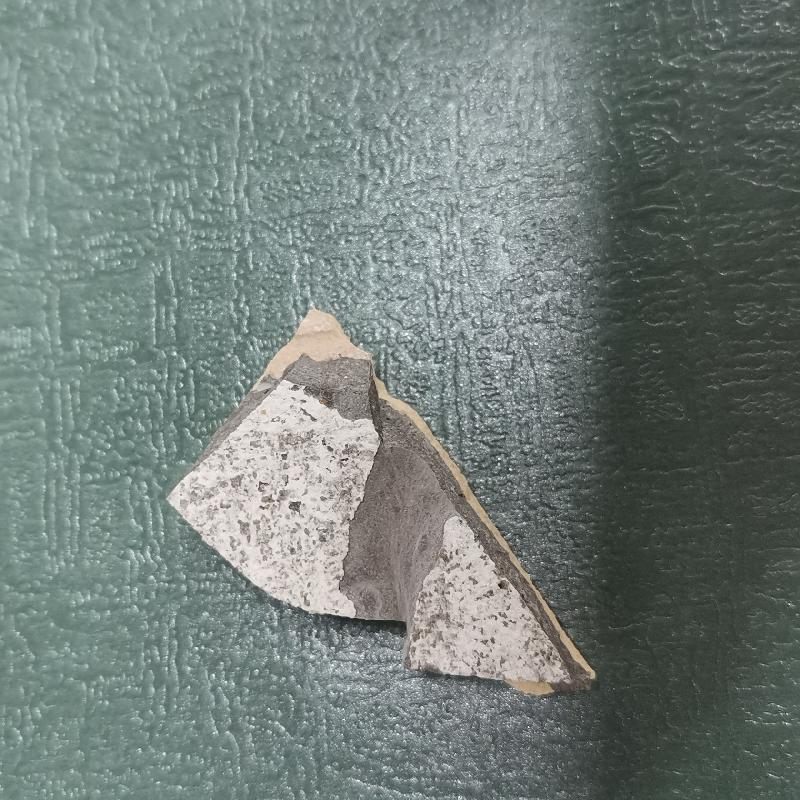tile: (162, 300, 615, 711)
